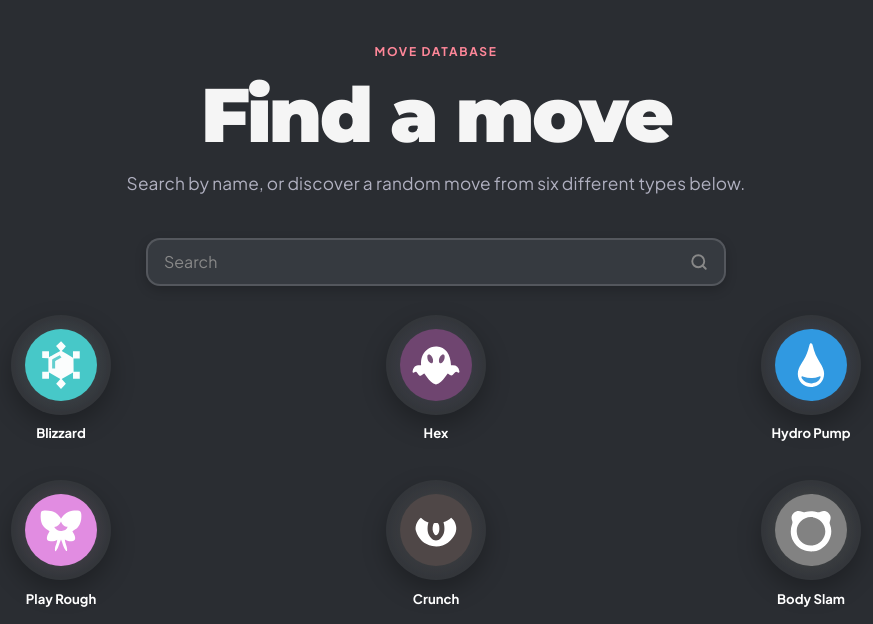
Test case: shows a retryable inline not-found message instead of an alert
Type "definitely-not-a-move" into the dropdown named "Search moves".
click(436, 262); type("definitely-not-a-move")  # box [146,238,726,286]
Then press Enter
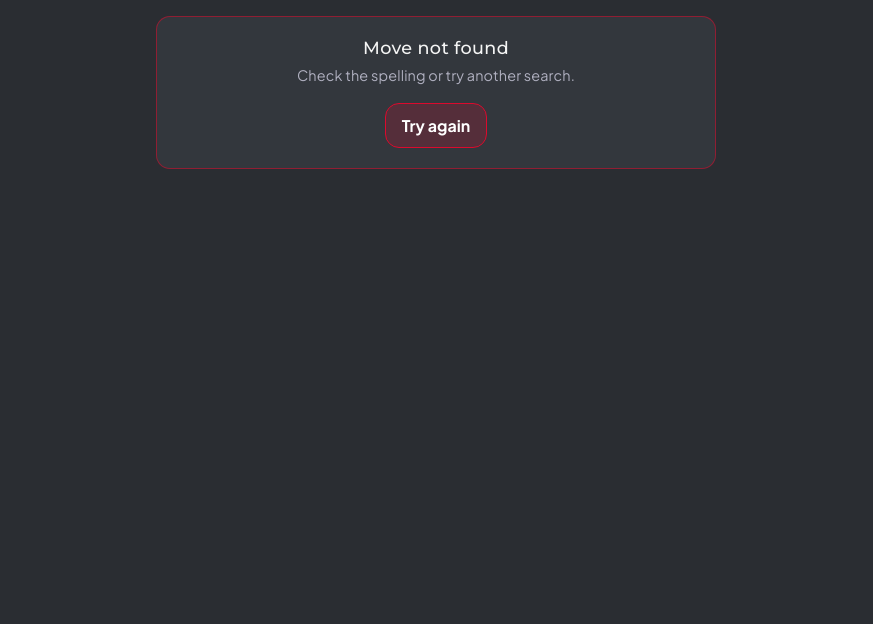
expect the heading "Move not found" is shown: met, box [363,37,509,58]
expect the button "Try again" is shown: met, box [385,103,487,148]
